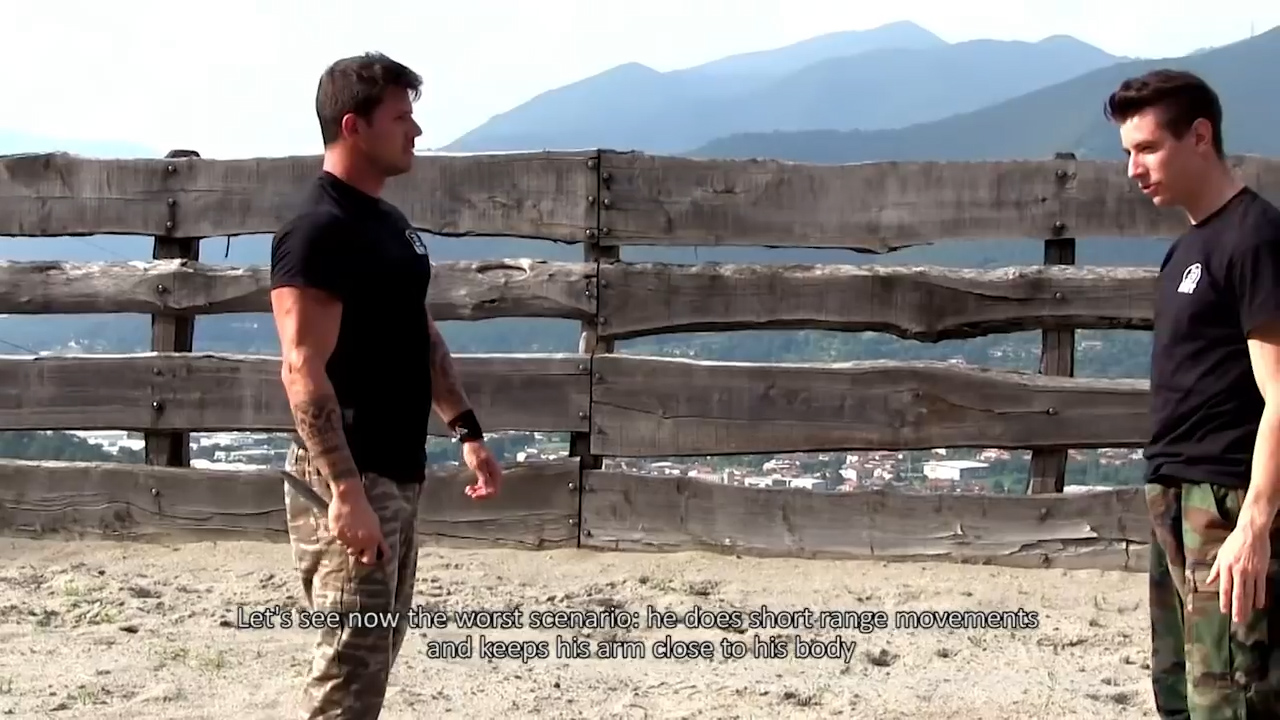knife: (273, 464, 397, 566)
